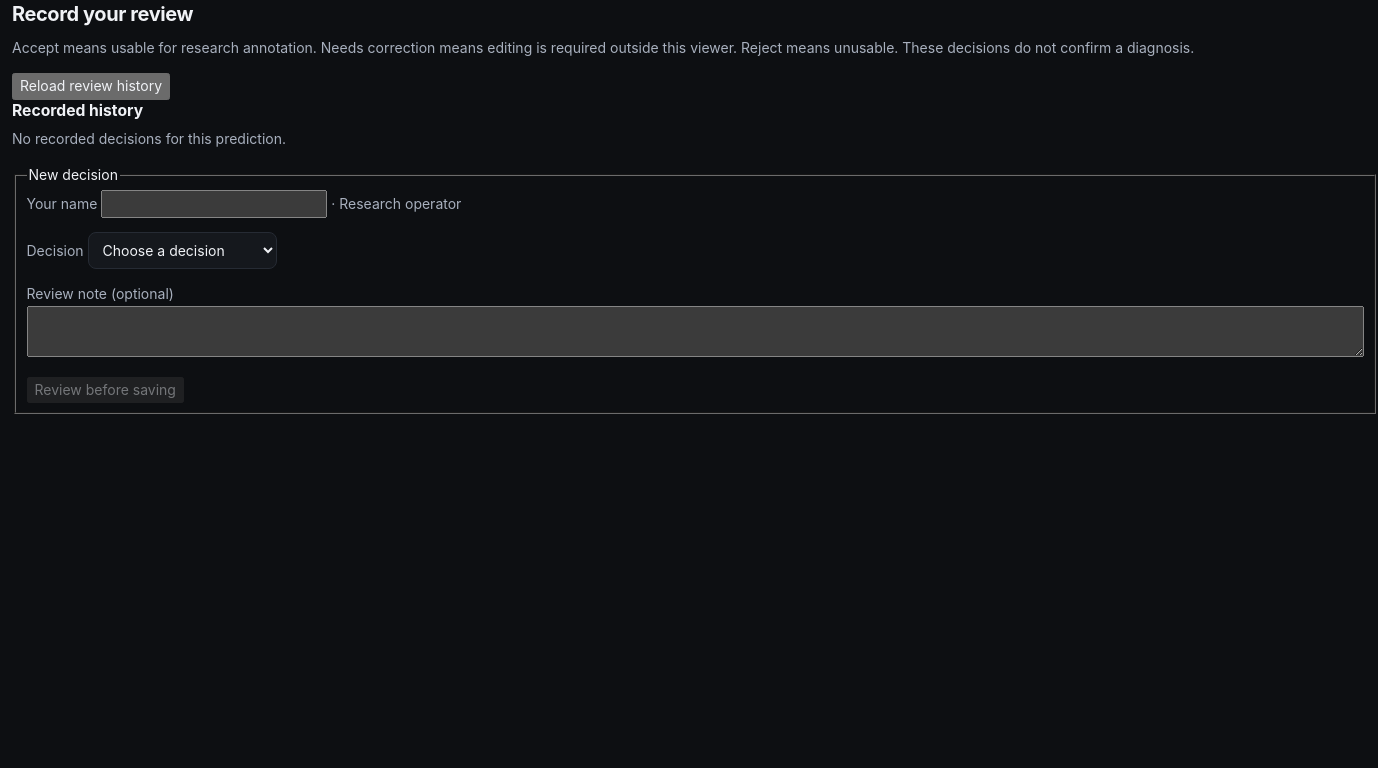
durable decisions › does not report success for a receipt belonging to another prediction
Expected: the text "No recorded decisions for this prediction." is shown, [12, 130, 286, 147]
Type "Invented operator" into the field labelled "Your name" at (214, 204), box [101, 190, 327, 218]
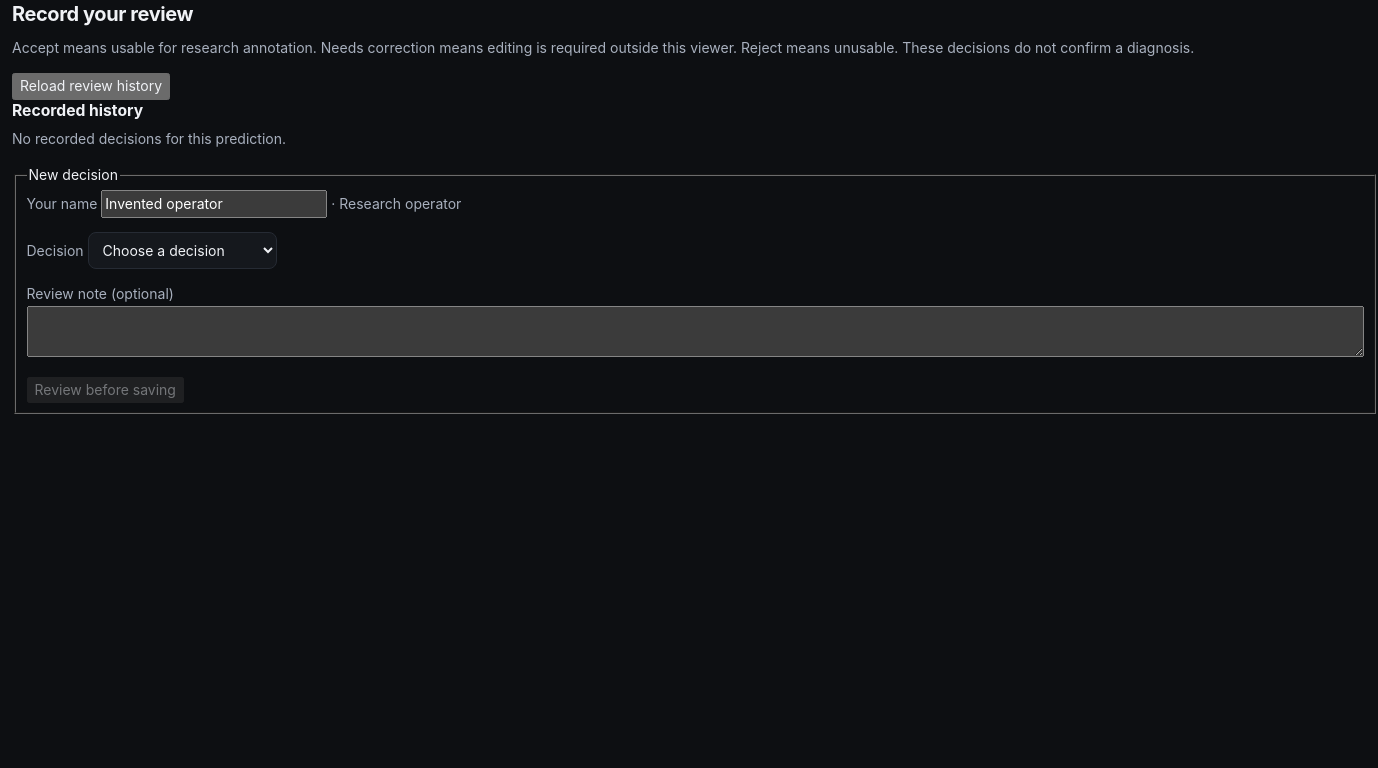
Select "Needs correction" in the dropdown labelled "Decision" at (182, 251), box [88, 232, 276, 269]
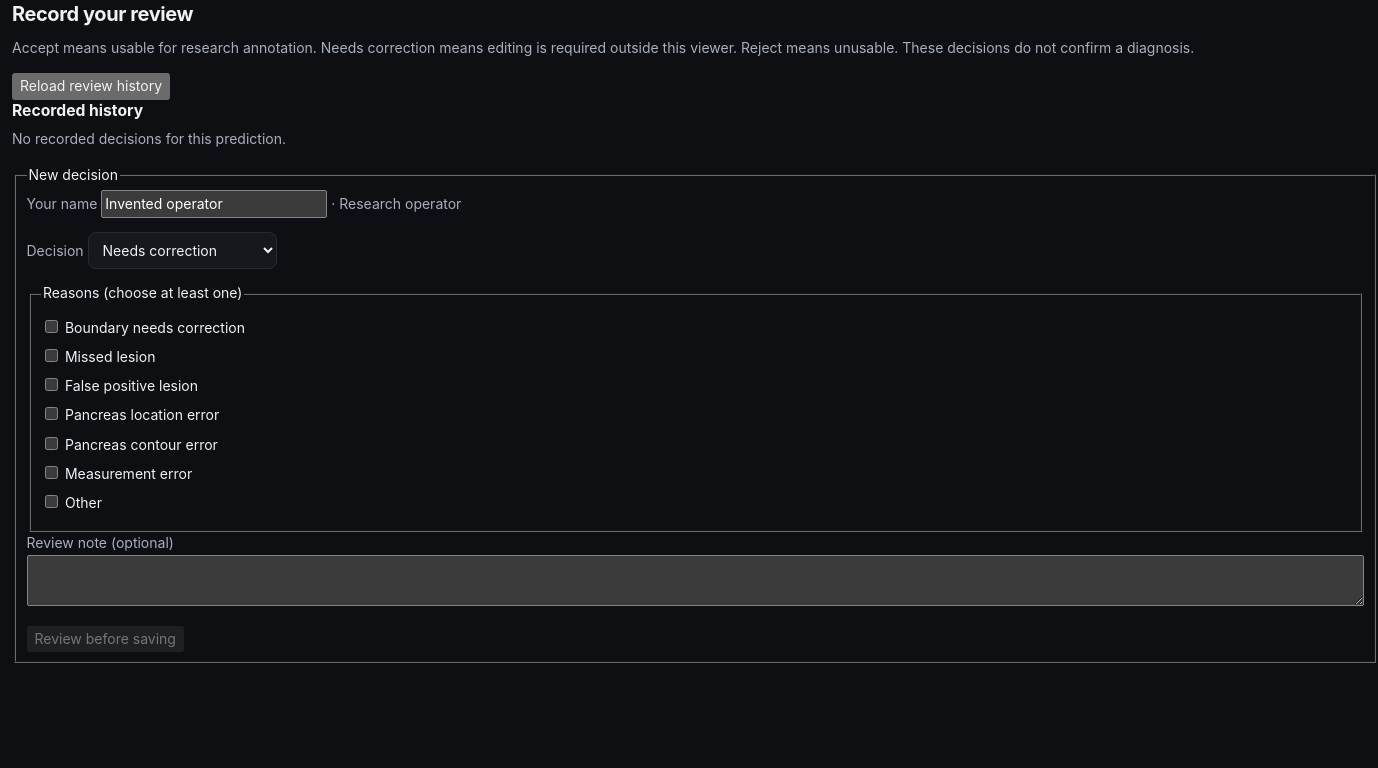
Click the checkbox labelled "Boundary needs correction" at (52, 326), box [45, 320, 58, 333]
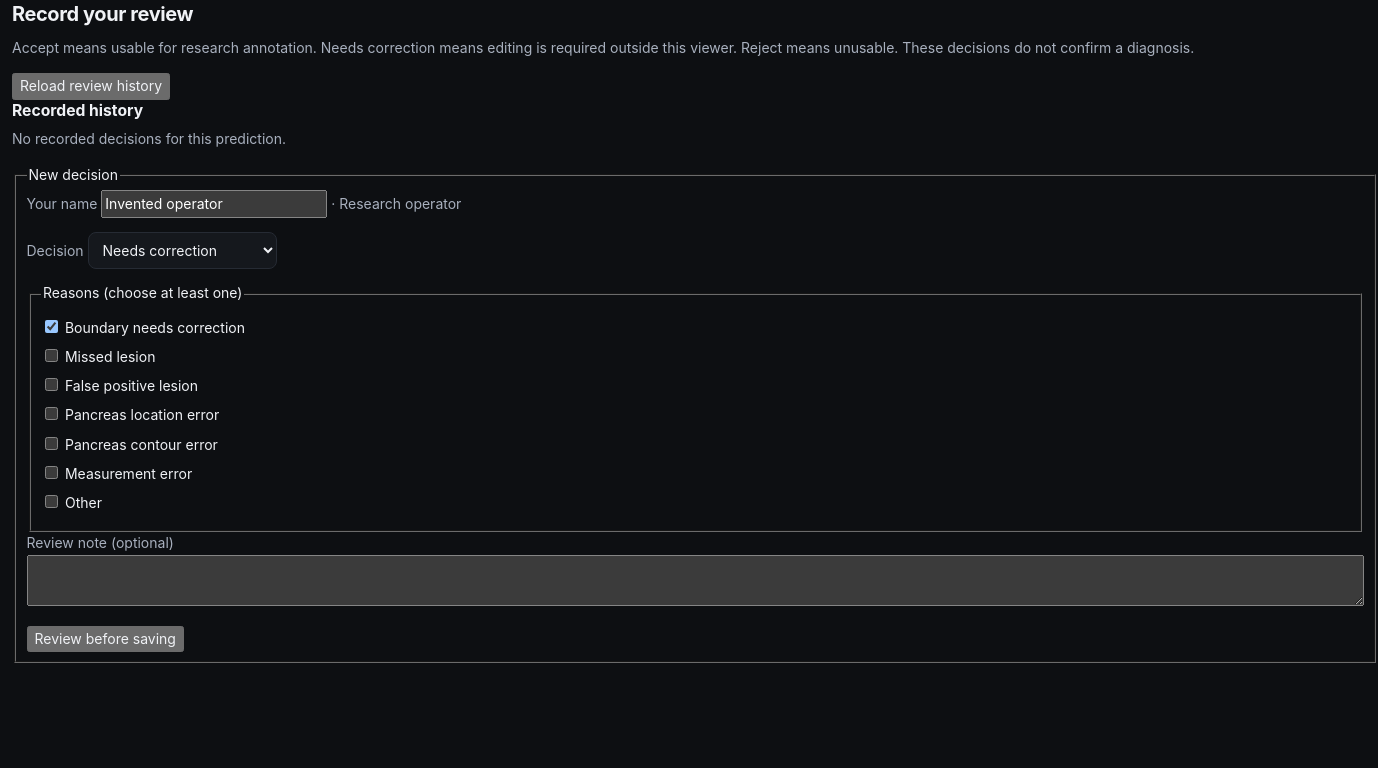
Type "Synthetic review" into the text box labelled "Review note (optional)" at (695, 580), box [26, 555, 1364, 606]
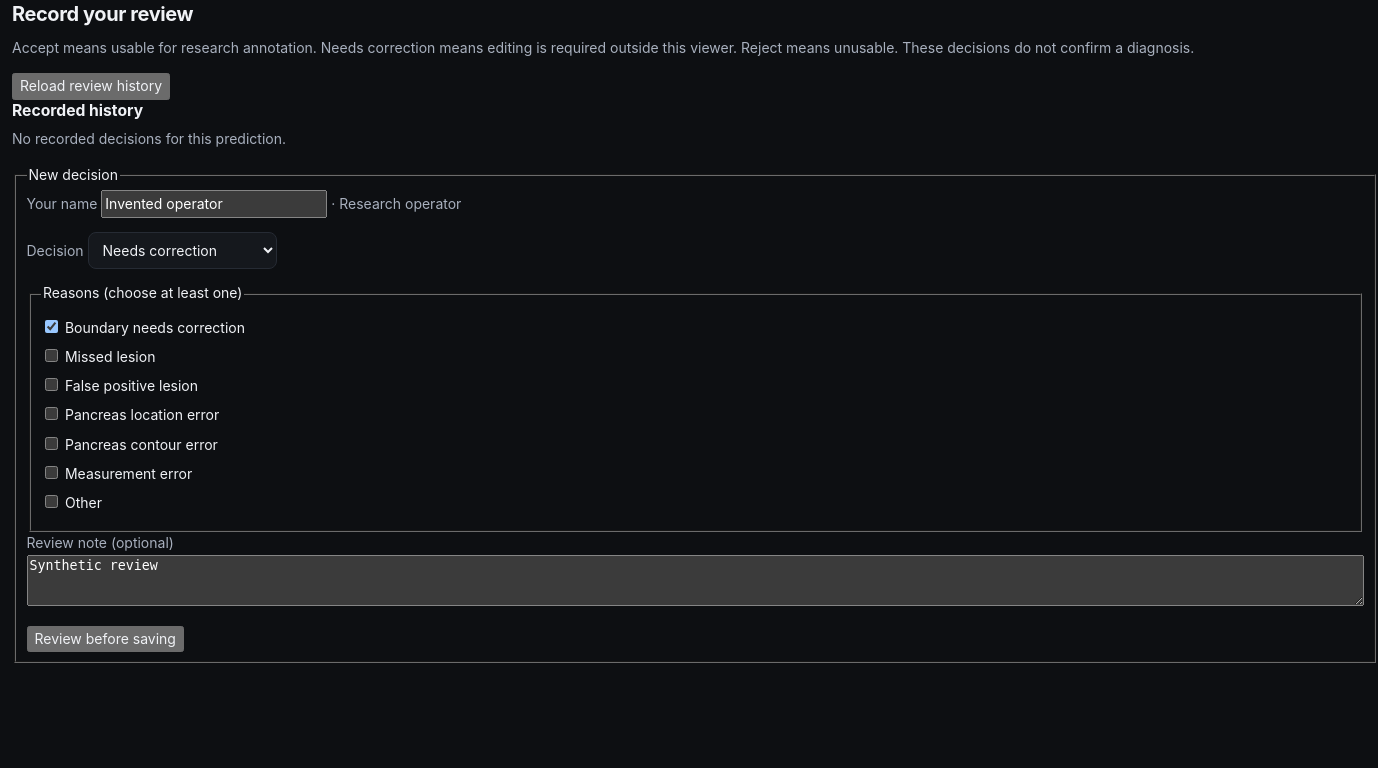
Click the button "Review before saving" at (105, 639), box [26, 626, 184, 652]
(page scrolled)
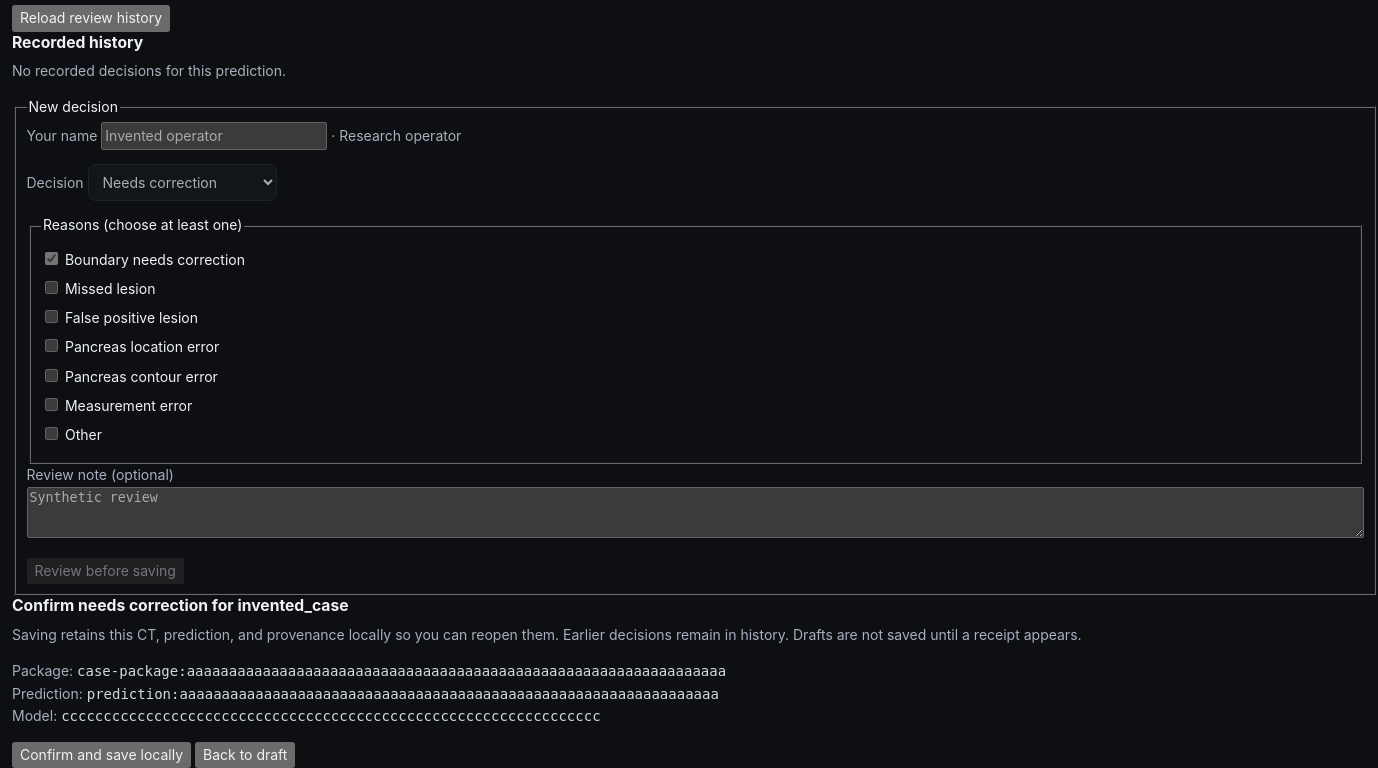
Click the button "Confirm and save locally" at (102, 755), box [12, 742, 191, 767]
(page scrolled)
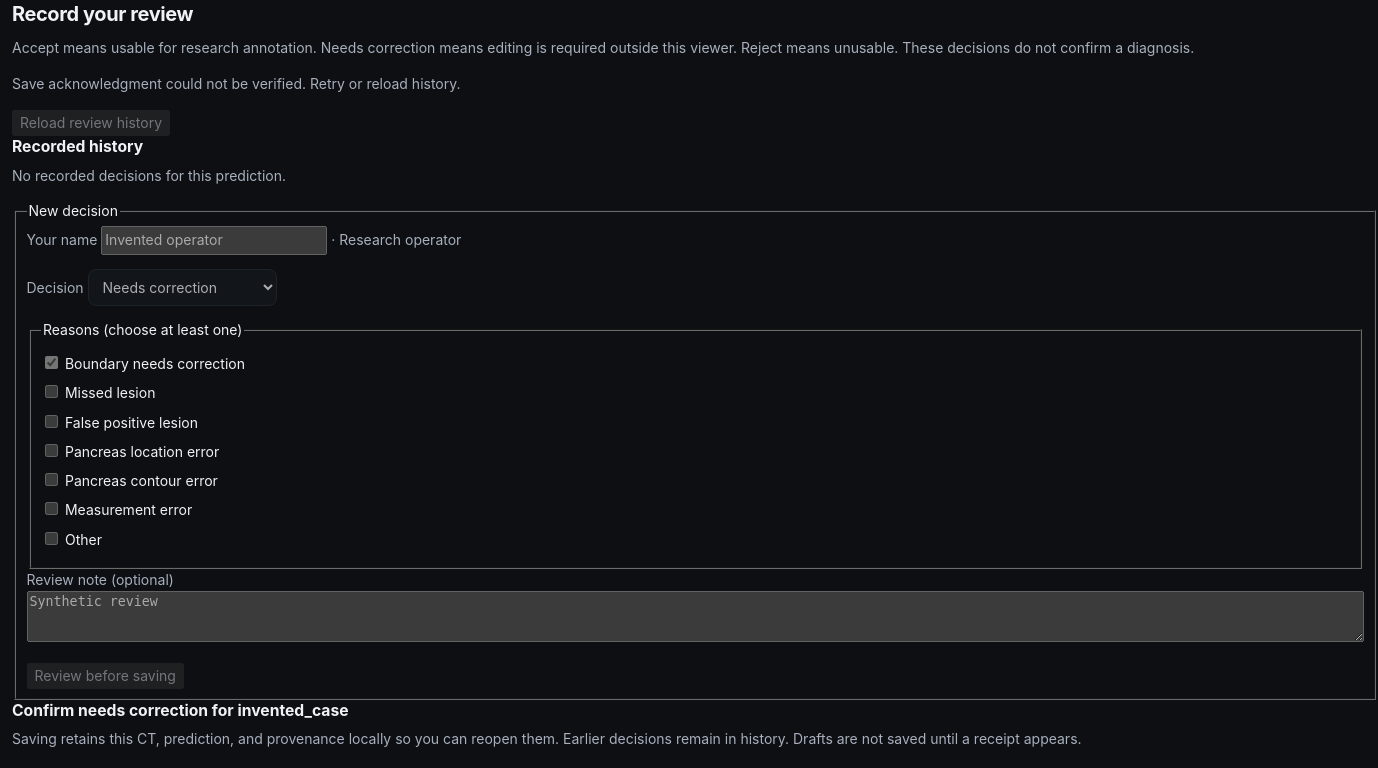
Expected: the message "Save acknowledgment could not be verified. Retry or reload history." is shown, [12, 75, 460, 92]
